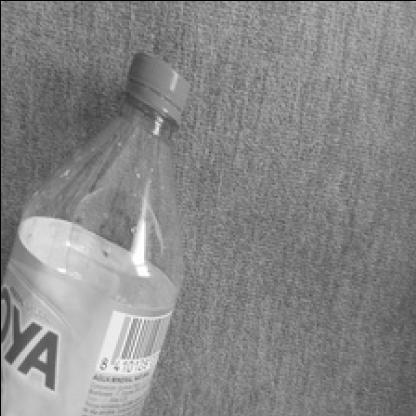plastic_bottles: (1, 46, 213, 416)
